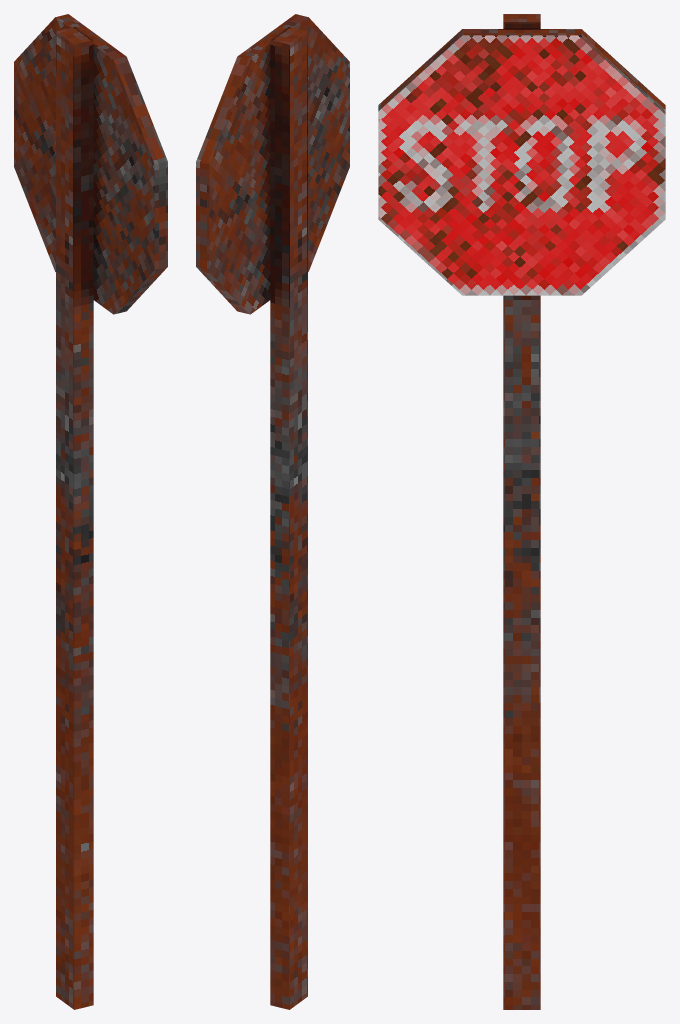
The model's file is stop_sign_psx.glb.
The picture shows the model from 3 angles, left to right: view 1: azimuth 30°, elevation 25°; view 2: azimuth 150°, elevation 25°; view 3: azimuth 270°, elevation 25°; orthographic projection. The views are drawn at different scales.
Visible parts, largest first — view 1: Cube; view 2: Cube; view 3: Cube.
Boxes of the visible parts, left/top/right/bottom form: Cube: left=14, top=14, right=167, bottom=1009; Cube: left=196, top=14, right=349, bottom=1009; Cube: left=378, top=14, right=665, bottom=1009.
Size of the model in its own units: 0.2455 by 7 by 1.85.
Materials: 1 (1 with a texture image).
